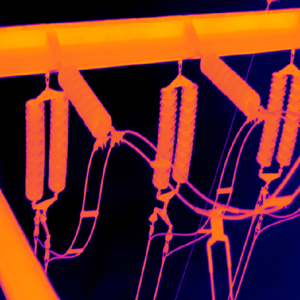insulator: (198, 46, 261, 120), (56, 61, 112, 138), (255, 70, 287, 166), (150, 85, 178, 188), (170, 79, 197, 183), (275, 74, 300, 165), (46, 92, 68, 191), (23, 100, 43, 201)
